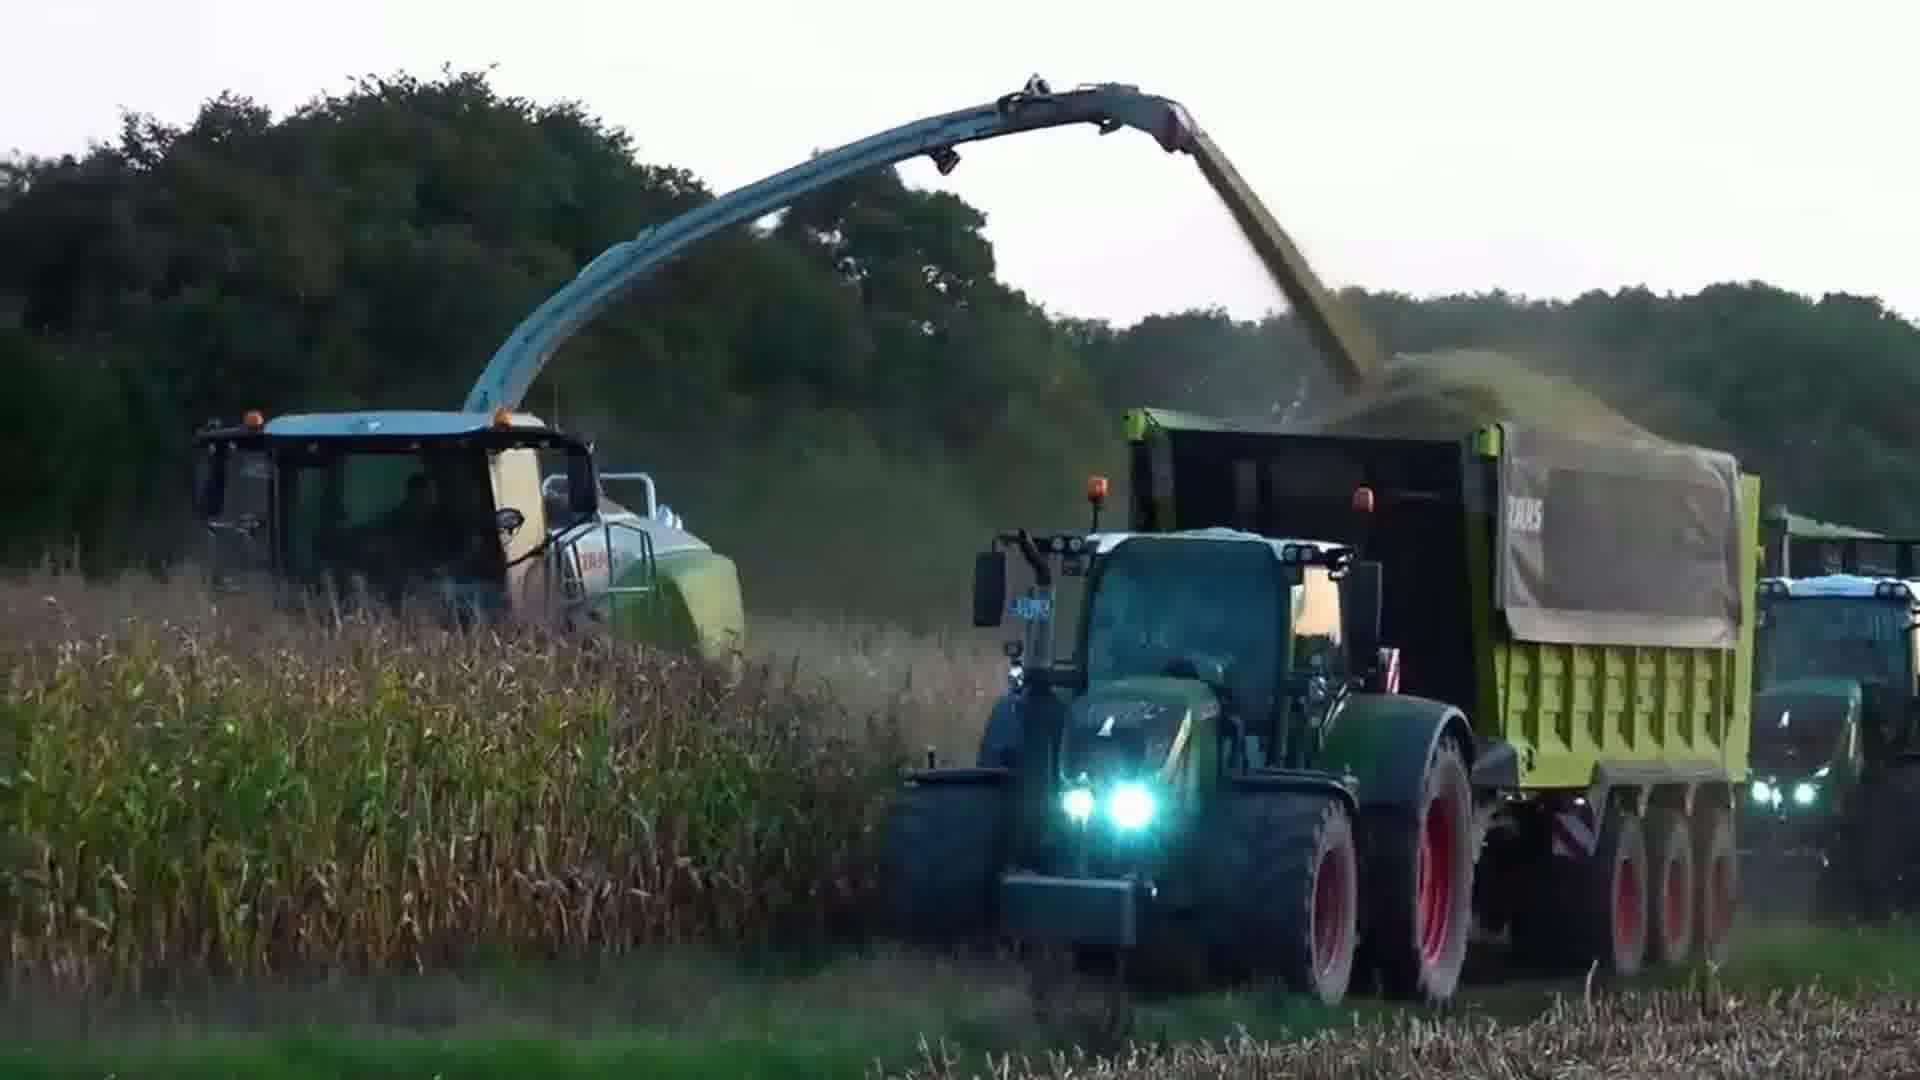combine harvester: (151, 67, 1210, 727)
tractor: (864, 477, 1494, 1011), (1738, 571, 1920, 939)
trailer: (1120, 391, 1766, 977)
